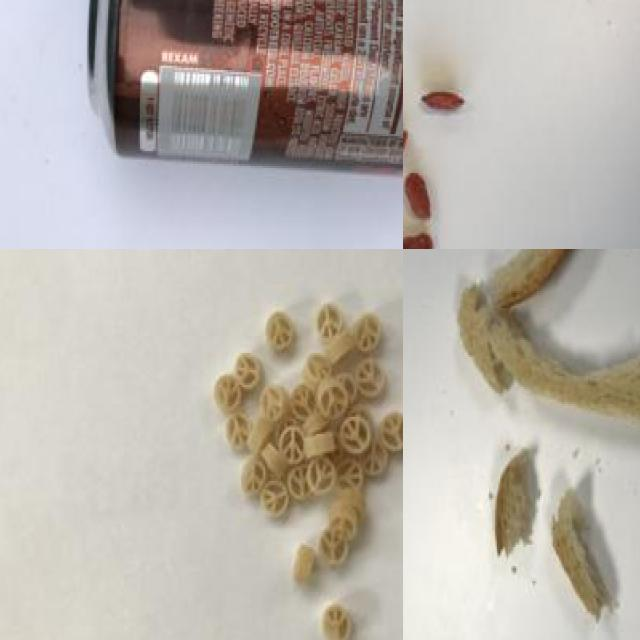compost: (198, 258, 403, 640), (433, 249, 640, 624), (403, 33, 508, 249)
plastic: (89, 0, 403, 184)
